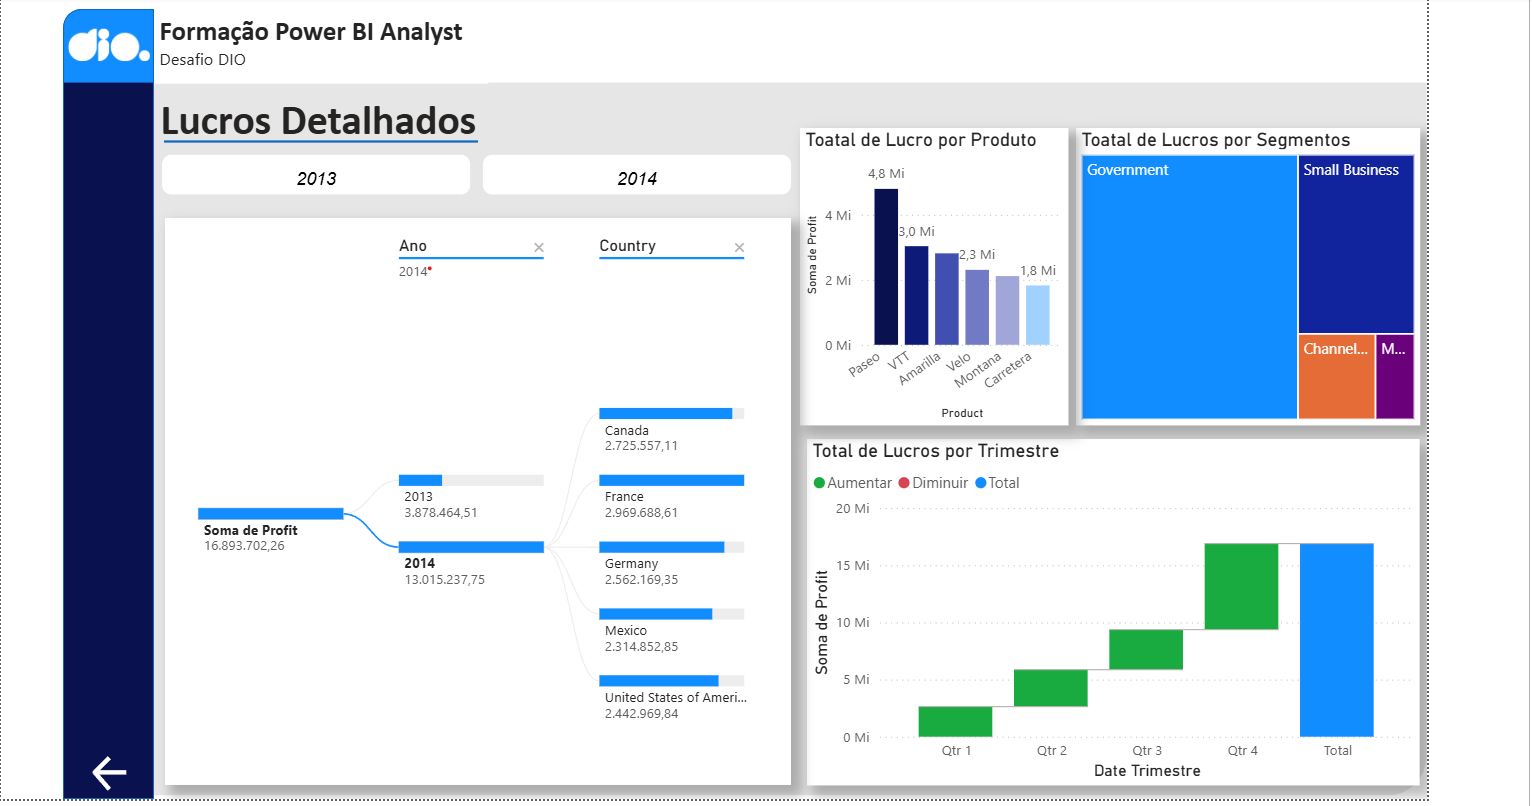

What the dashboard file says about the page in this screenshot:
{"tool":"powerbi","page":{"name":"Página 2","canvas":[1280,720],"ordinal":1},"visuals":[{"type":"shape","box":[58.4,10.7,1221.6,706.2],"z":0},{"type":"shape","box":[55.7,10.8,81.7,709.2],"z":1000},{"type":"shape","box":[137.4,10.8,1142.8,66.4],"z":2000},{"type":"shape","box":[55.7,10.8,81.7,66.4],"z":3000},{"type":"image","box":[56,4.9,82.5,77.6],"z":4000},{"type":"textbox","box":[137.5,10.8,299.6,66.8],"z":5000},{"type":"advancedSlicerVisual","fields":{"Values":["financials.Date.Variation.Hierarquia de datas.Ano"]},"box":[119.4,136.5,616.8,46.7],"z":6000},{"type":"actionButton","box":[78.1,676.9,41.3,40.4],"z":7000},{"type":"treemap","title":"Toatal de Lucros por Segmentos","fields":{"Values":["Sum(financials.Profit)"],"Group":["financials.Segment"]},"box":[965.1,117.6,308.8,266.6],"z":8000},{"type":"waterfallChart","title":"Total de Lucros por Trimestre","fields":{"Category":["financials.Date.Variation.Hierarquia de datas.Trimestre"],"Y":["Sum(financials.Profit)"]},"box":[723.6,396.8,550.3,310.6],"z":9000},{"type":"columnChart","title":"Toatal de Lucro por Produto","fields":{"Category":["financials.Product"],"Y":["Sum(financials.Profit)"]},"box":[717.3,117.6,240.6,266.6],"z":10000},{"type":"decompositionTreeVisual","fields":{"ExplainBy":["financials.Date.Variation.Hierarquia de datas.Ano","financials.Country"],"Analyze":["Sum(financials.Profit)"]},"box":[147.2,198.4,562,509],"z":10001},{"type":"textbox","box":[138.3,81.7,316.9,58.4],"z":10002},{"type":"shape","box":[146.3,99.7,281.9,60.1],"z":10003}]}

Visuals, with their boxes in screenshot pixels (x1, y1, x2, y2):
shape: 64,8,1413,787
shape: 61,8,152,791
shape: 152,8,1413,81
shape: 61,8,152,81
image: 62,1,153,87
textbox: 152,8,482,82
advancedSlicerVisual - financials.Date.Variation.Hierarquia de datas.Ano: 132,147,813,198
actionButton: 86,743,132,788
"Toatal de Lucros por Segmentos" treemap: 1065,126,1406,420
"Total de Lucros por Trimestre" waterfallChart: 799,434,1406,777
"Toatal de Lucro por Produto" columnChart: 792,126,1057,420
decompositionTreeVisual - financials.Date.Variation.Hierarquia de datas.Ano x financials.Country: 162,215,783,777
textbox: 153,86,502,151
shape: 161,106,473,172
